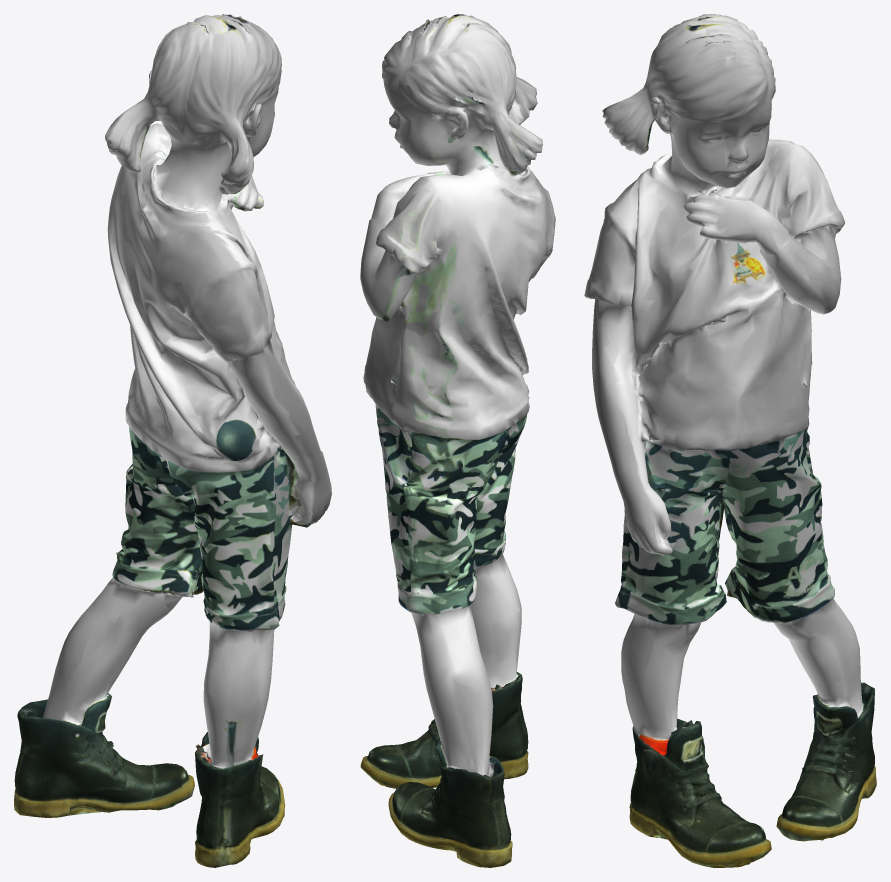
The model's file is GirlWhite.fbx.
3 views of the same model, side by side, from view 1: azimuth 30°, elevation 25°; view 2: azimuth 150°, elevation 25°; view 3: azimuth 270°, elevation 25° (orthographic). The views are drawn at different scales.
Visible parts, largest first — view 1: dev belaya; view 2: dev belaya; view 3: dev belaya.
Boxes of the visible parts, left/top/right/bottom form: dev belaya: left=14, top=14, right=331, bottom=867; dev belaya: left=360, top=14, right=555, bottom=867; dev belaya: left=584, top=14, right=876, bottom=867.
Bounding box in the file's own units: 31.05 × 113 × 36.75.
